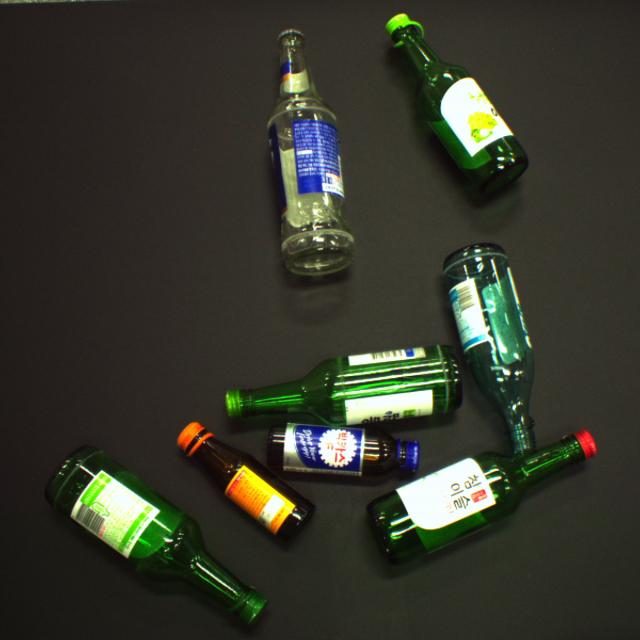beer-bottle: (267, 29, 356, 276)
soju-bottle: (43, 444, 270, 627), (365, 428, 598, 567), (385, 13, 529, 197), (443, 243, 537, 455), (225, 345, 463, 427)
